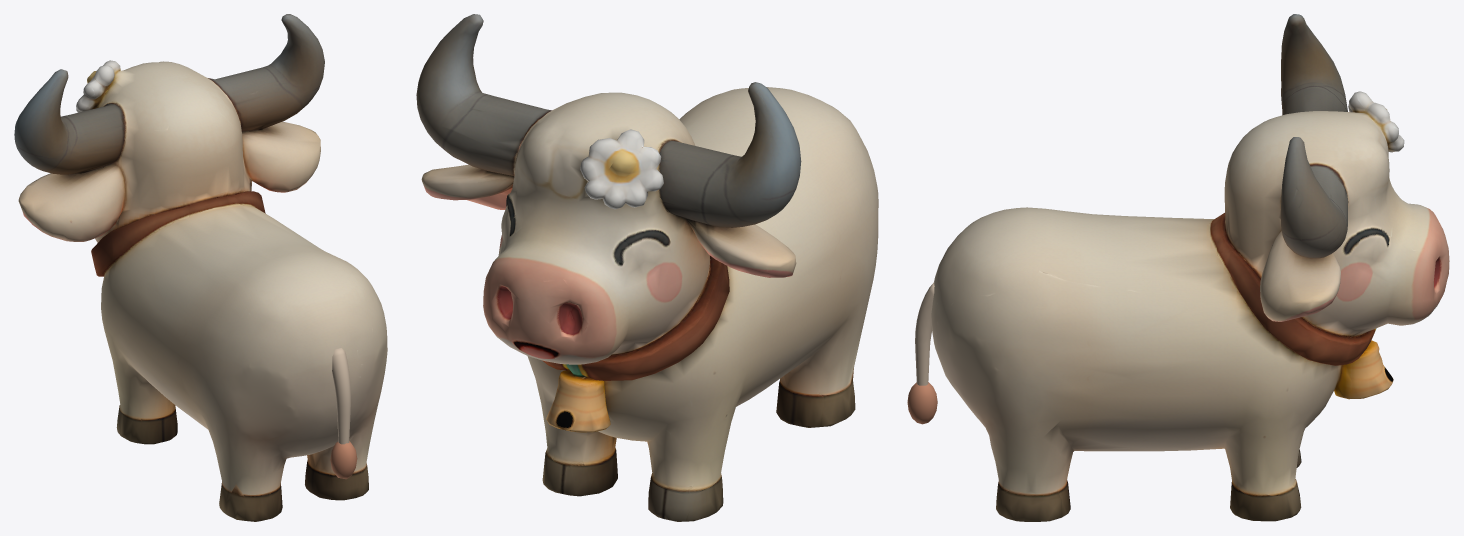
Rendered from AlbinoBuffalo_OneTail_v2.glb.
3 views of the same model, side by side, from view 1: azimuth 30°, elevation 25°; view 2: azimuth 150°, elevation 25°; view 3: azimuth 270°, elevation 25° (orthographic). The views are drawn at different scales.
Parts seen in each view (by area): view 1: albino; view 2: albino; view 3: albino.
Part boxes in pixels (x1,y1,x2,y2): albino: (14, 14, 387, 521); albino: (416, 14, 878, 521); albino: (907, 14, 1449, 521).
Size of the model in its own units: 2.4 by 2.79 by 3.35.
1 material, 1 textured.
